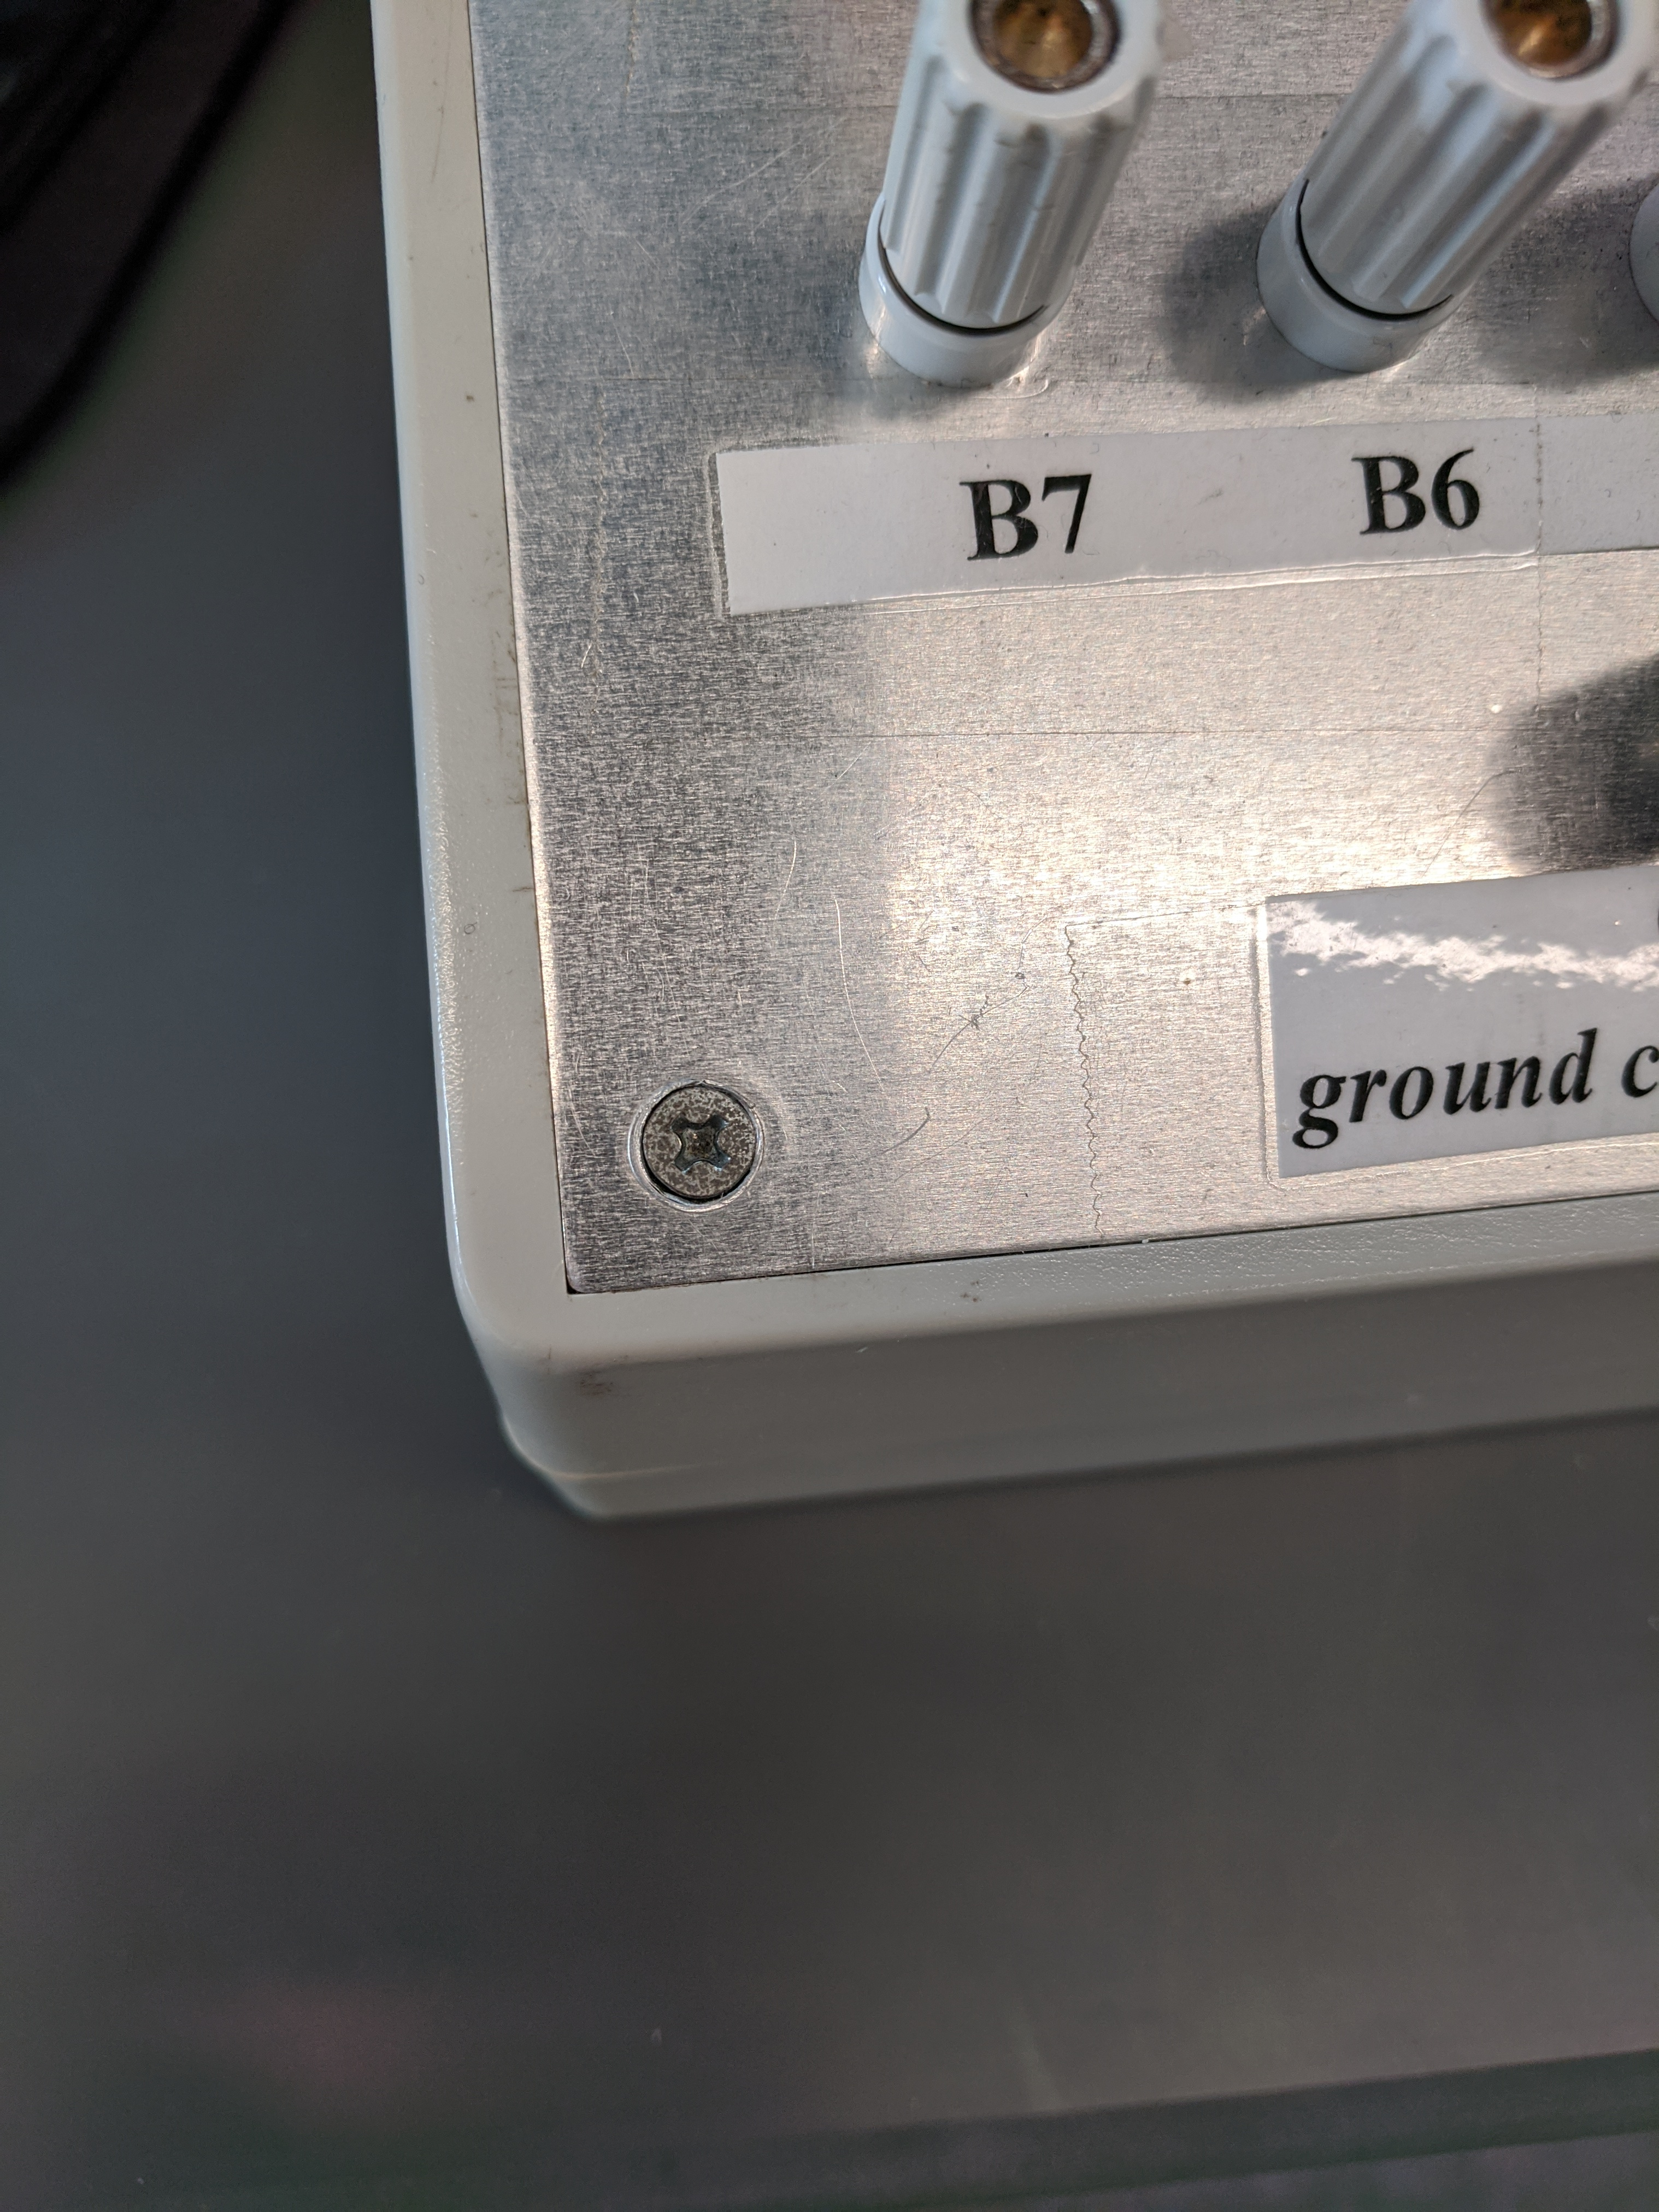cross_recessed_screw: (620, 1055, 765, 1216)
